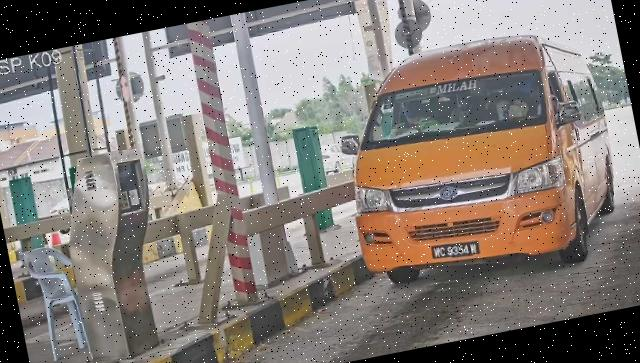License_Plate: (430, 237, 484, 267)
van: (327, 19, 633, 303)
